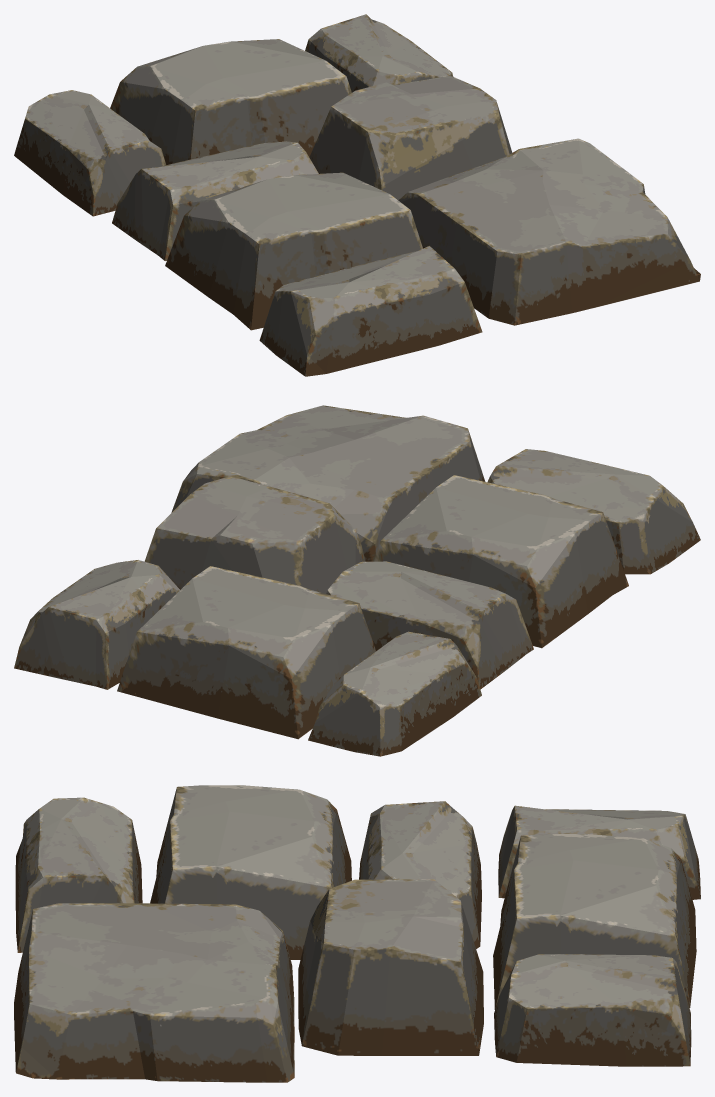
The model's file is RockPath_Square_Small_3__go_coast.glb.
3 views of the same model, one above another, from view 1: azimuth 30°, elevation 25°; view 2: azimuth 150°, elevation 25°; view 3: azimuth 270°, elevation 25° (orthographic). The views are drawn at different scales.
Visible parts, largest first — view 1: RockPath_Square_Small_3; view 2: RockPath_Square_Small_3; view 3: RockPath_Square_Small_3.
Boxes of the visible parts, x1,y1,x2,y2 form: RockPath_Square_Small_3: [14, 14, 700, 376]; RockPath_Square_Small_3: [14, 405, 700, 756]; RockPath_Square_Small_3: [14, 785, 700, 1082].
Size of the model in its own units: 0.8359 by 0.1736 by 1.08.
Materials: 1 (1 with a texture image).
